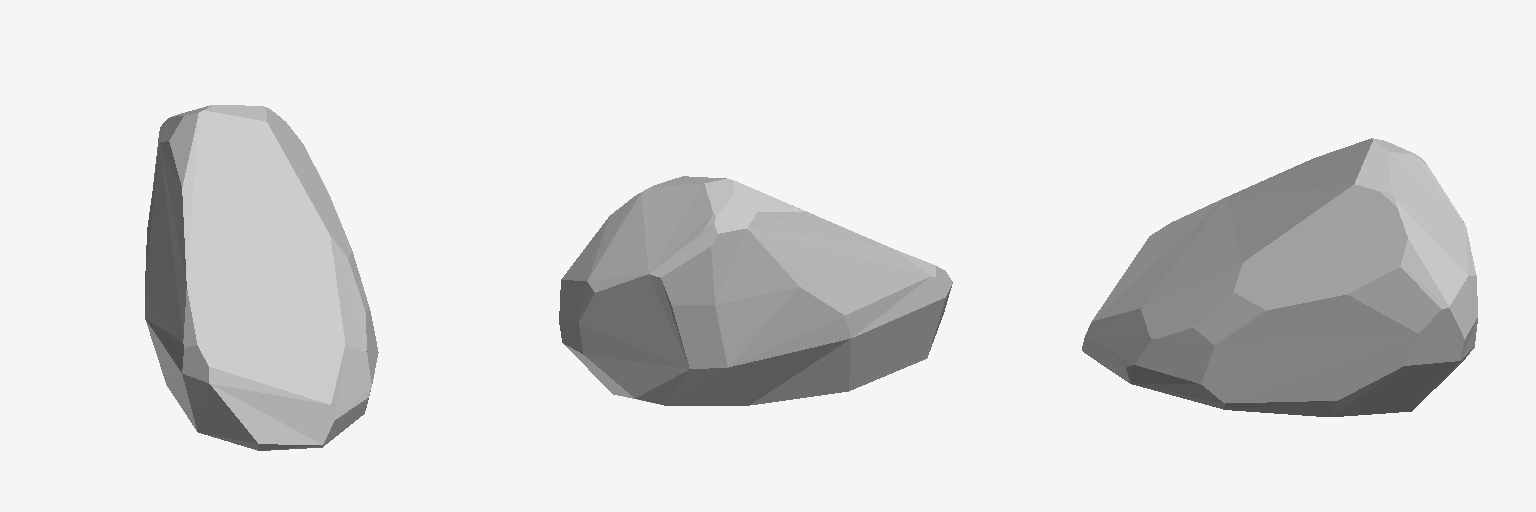
Rendered from Rock.obj.
3 views of the same model, side by side, from view 1: azimuth 30°, elevation 25°; view 2: azimuth 150°, elevation 25°; view 3: azimuth 270°, elevation 25° (orthographic).
Parts seen in each view (by area): view 1: Rock; view 2: Rock; view 3: Rock.
Part boxes in pixels (x1,y1,x2,y2): Rock: (145,105,378,450); Rock: (559,176,952,405); Rock: (1082,138,1477,416).
Bounding box in the file's own units: 1.83 × 1.57 × 2.5.